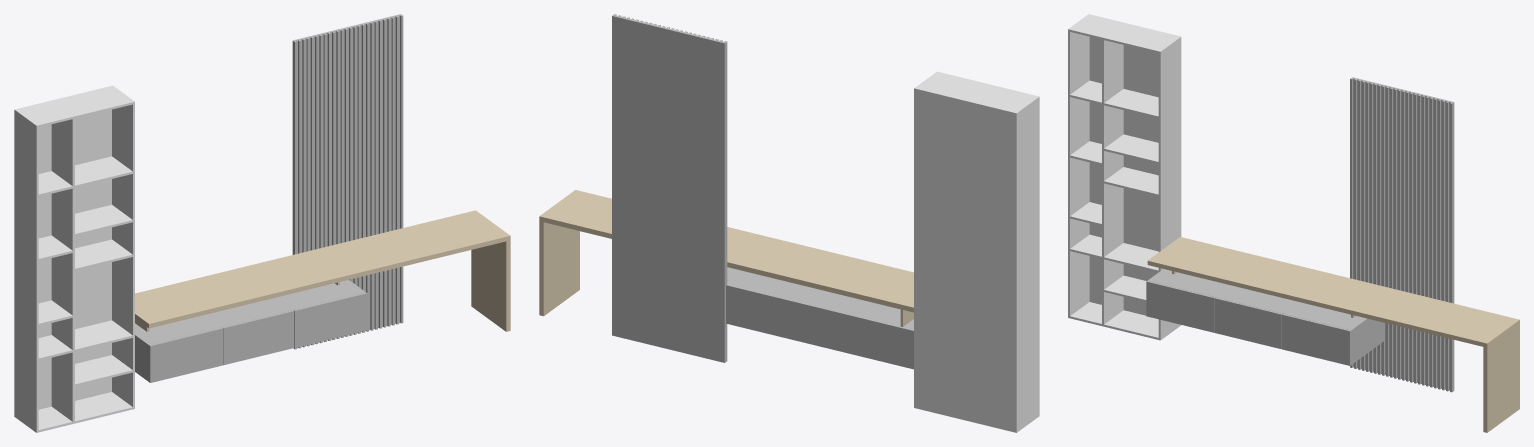
File: 1773839183853-Apex Media Console.glb
The picture shows the model from 3 angles, left to right: view 1: azimuth 30°, elevation 25°; view 2: azimuth 150°, elevation 25°; view 3: azimuth 330°, elevation 25°; orthographic projection. The views are drawn at different scales.
Parts seen in each view (by area): view 1: Mesh25_Solid_Wood_0, Mesh15_White_0, Mesh30_Grey_0, Mesh1_White_0, Mesh2_White_0, Mesh3_White_0, Mesh17_Grey_0, Mesh26_Solid_Wood_0, Mesh23_Grey_0, Mesh22_Grey_0, Mesh24_Grey_0, Mesh4_White_0 (+36 smaller); view 2: Mesh30_Grey_0, Mesh15_White_0, Mesh25_Solid_Wood_0, Mesh29_Grey_0, Mesh1_White_0, Mesh26_Solid_Wood_0, Mesh17_Grey_0, Mesh4_White_0, Mesh31_Grey_0; view 3: Mesh25_Solid_Wood_0, Mesh15_White_0, Mesh30_Grey_0, Mesh1_White_0, Mesh2_White_0, Mesh3_White_0, Mesh17_Grey_0, Mesh26_Solid_Wood_0, Mesh23_Grey_0, Mesh22_Grey_0, Mesh24_Grey_0, Mesh4_White_0 (+37 smaller).
Boxes of the visible parts, x1,y1,x2,y2 form: Mesh25_Solid_Wood_0: (135,210,510,328); Mesh15_White_0: (14,85,113,417); Mesh30_Grey_0: (292,14,401,347); Mesh1_White_0: (15,113,38,430); Mesh2_White_0: (51,118,74,421); Mesh3_White_0: (112,104,134,406); Mesh17_Grey_0: (135,280,365,346); Mesh26_Solid_Wood_0: (471,240,510,331); Mesh23_Grey_0: (293,292,367,347); Mesh22_Grey_0: (149,327,222,382); Mesh24_Grey_0: (222,310,294,365); Mesh4_White_0: (15,86,134,127); Mesh30_Grey_0: (612,15,725,362); Mesh15_White_0: (914,87,1017,432); Mesh25_Solid_Wood_0: (539,190,913,312); Mesh29_Grey_0: (726,284,913,369); Mesh1_White_0: (1018,99,1039,429); Mesh26_Solid_Wood_0: (539,221,579,316); Mesh17_Grey_0: (727,267,913,329); Mesh4_White_0: (915,71,1039,114); Mesh31_Grey_0: (724,41,727,361); Mesh25_Solid_Wood_0: (1147,237,1519,347); Mesh15_White_0: (1088,14,1181,325); Mesh30_Grey_0: (1352,77,1454,391); Mesh1_White_0: (1068,31,1089,315); Mesh2_White_0: (1102,39,1123,324); Mesh3_White_0: (1158,40,1180,338); Mesh17_Grey_0: (1148,269,1369,332); Mesh26_Solid_Wood_0: (1483,324,1519,432); Mesh23_Grey_0: (1282,314,1351,365); Mesh22_Grey_0: (1146,280,1215,332); Mesh24_Grey_0: (1214,297,1282,349); Mesh4_White_0: (1068,15,1180,53).
Bounding box in the file's own units: 38.18 × 24.36 × 5.55.
